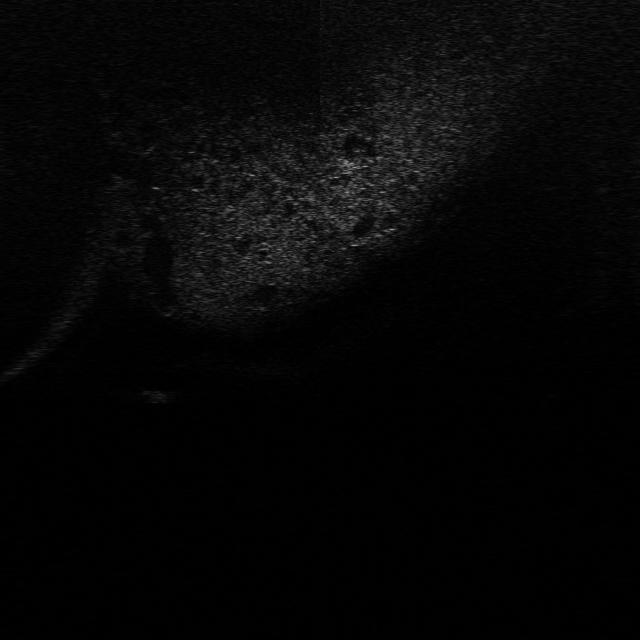cube: (132, 382, 177, 403)
